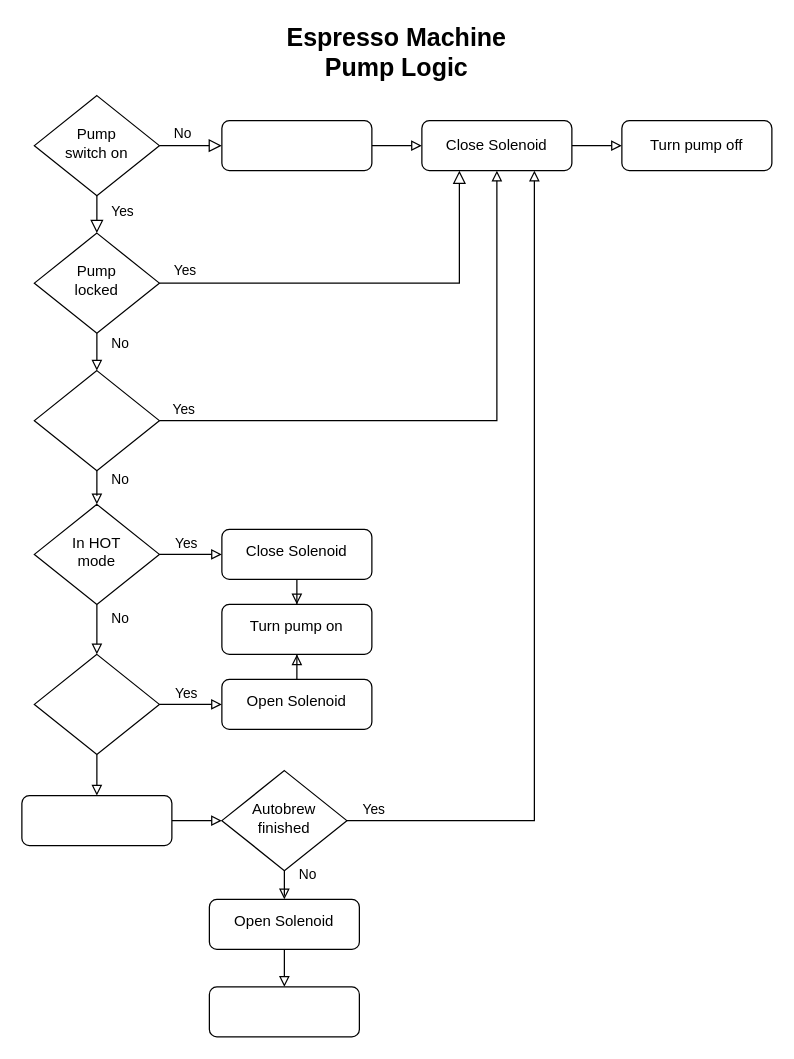
The diagram is 794 pixels wide and 1059 high, and some of its shapes have lost their labels. Here are the shapes that lost their labels. From the top down, the centre of each, then its label:
(x=296, y=145): Reset Autobrew routine
(x=96, y=420): In STEAM mode
(x=96, y=703): In MANUAL mode
(x=96, y=820): Tick Autobrew routine
(x=283, y=1011): Set pump to Autobrew setting
